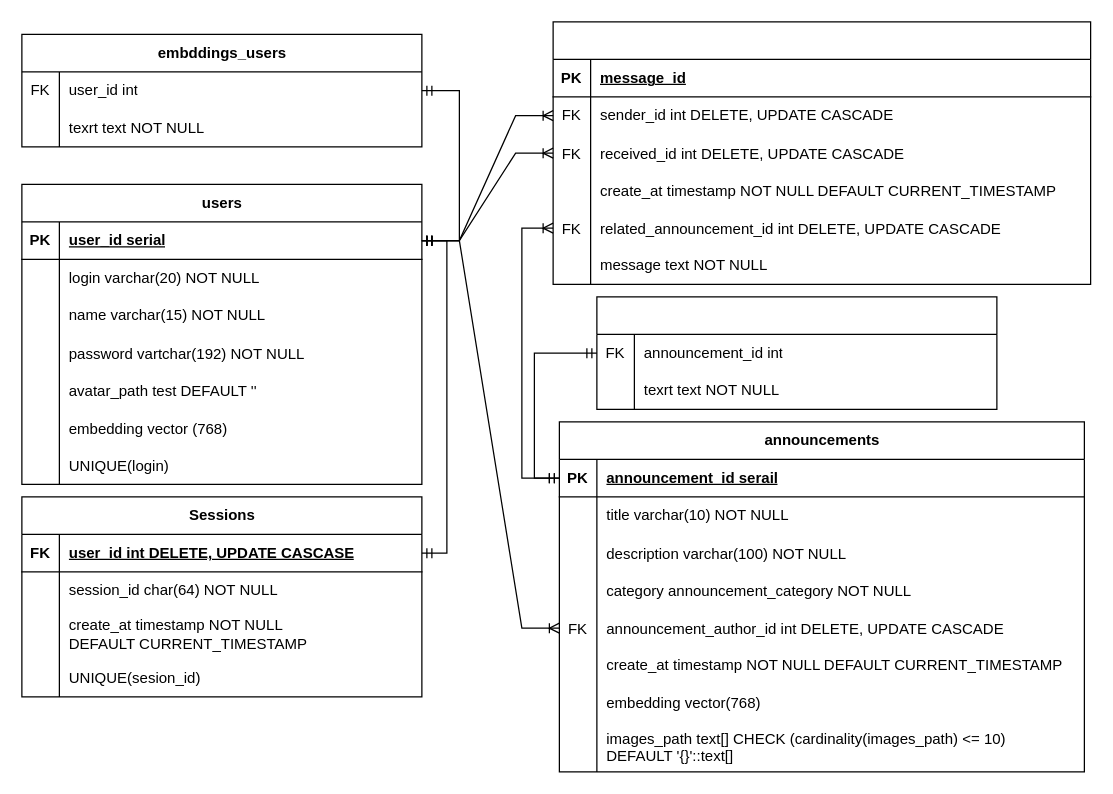
Image size: 1113x794. Some labels were removed from this diagram. Here are the shapes that lost their labels. From the top down, the box of each, then its label:
(552, 21, 1091, 284): messages
(596, 296, 997, 409): embddings_announcements
